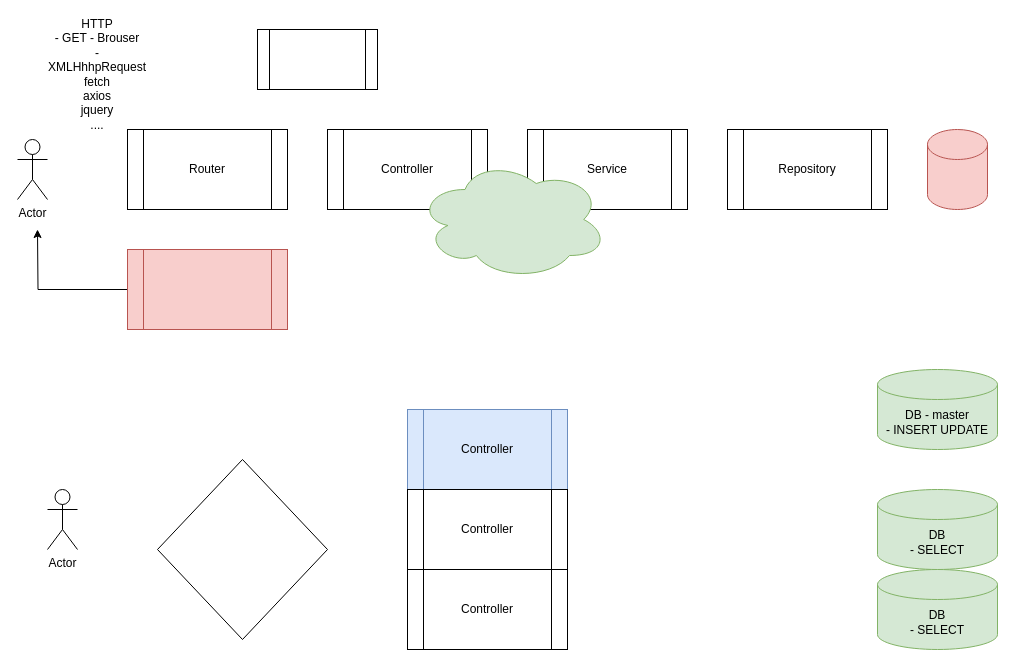
Image size: 1015x667. Some labels were removed from this diagram. Each missing label, with the centre of its shape:
api getway: (242,549)
Cache - Redis: (512,219)
DB: (957,169)
MiddleWare: (317,59)
WebSocket: (207,289)
